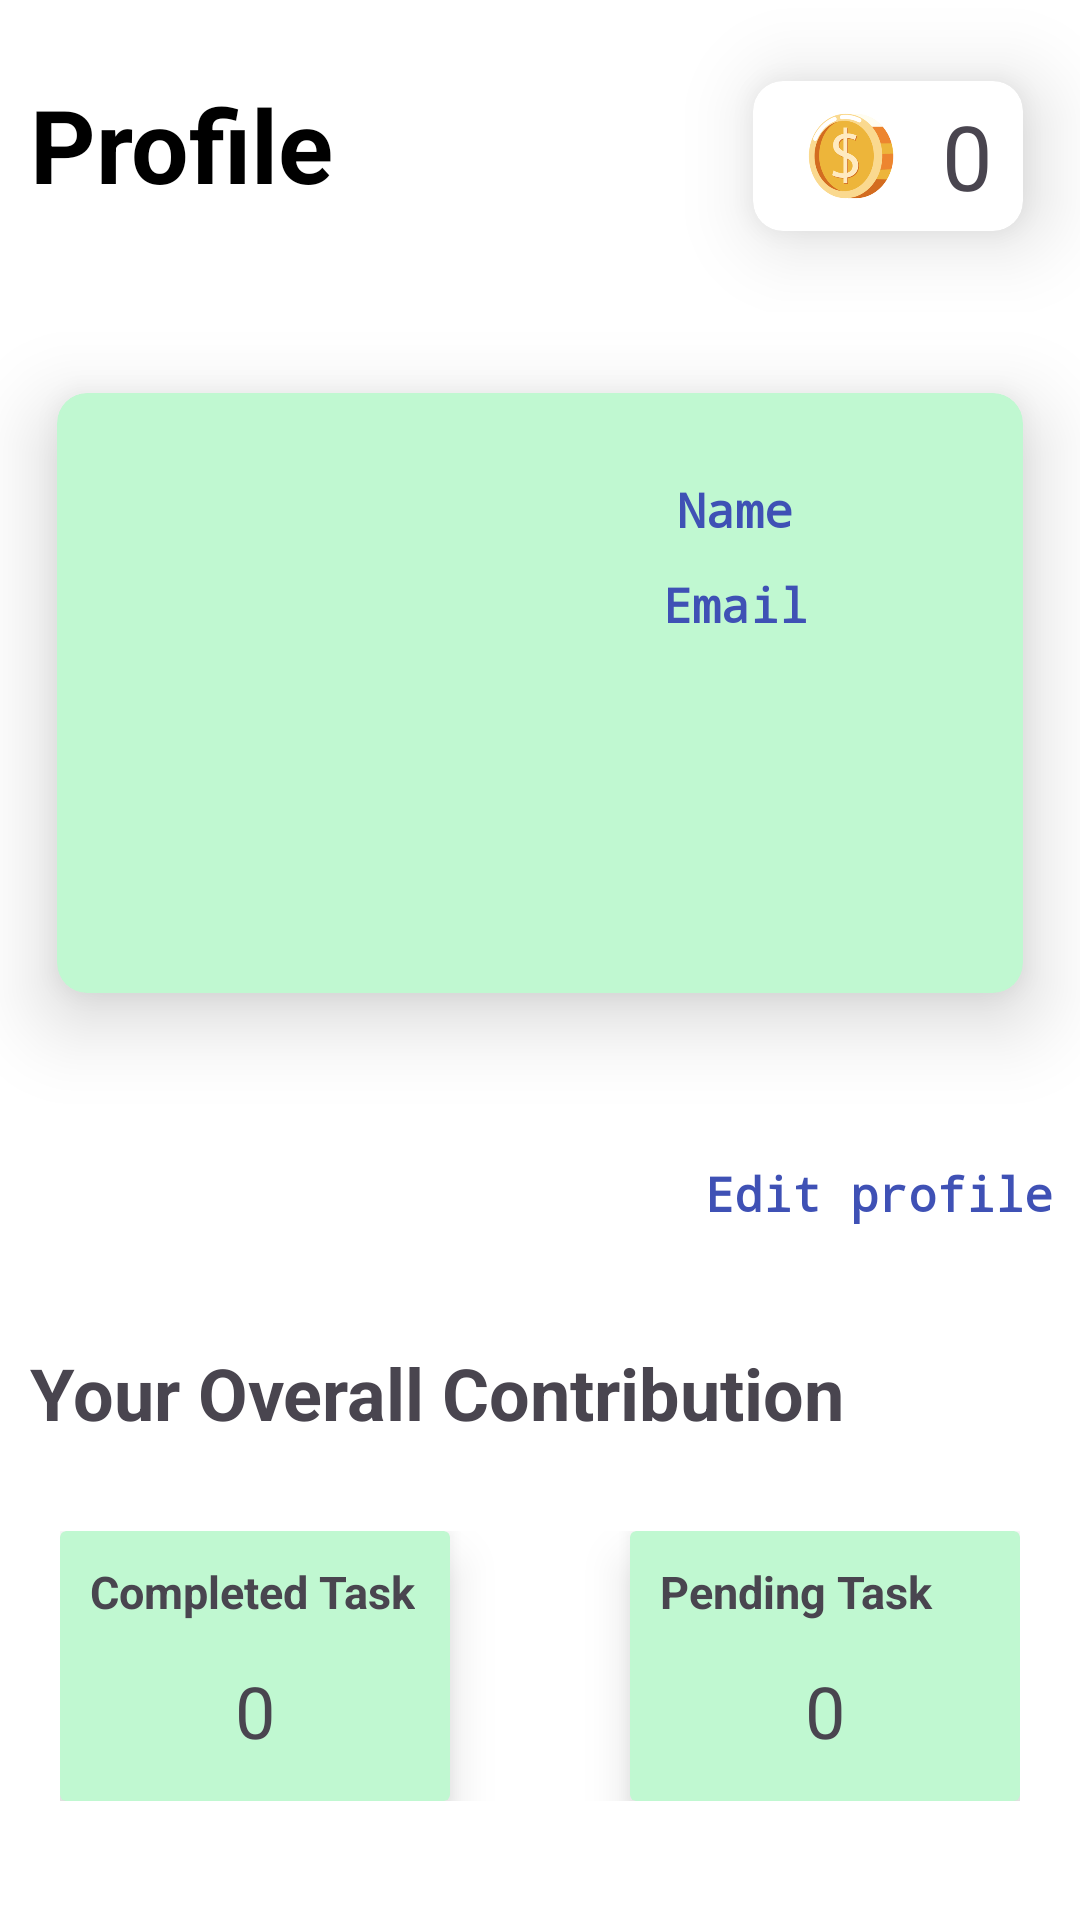

Icon click points for this 1080×1920 phone screenshot, format point (x, y):
coin: point (851, 156)
